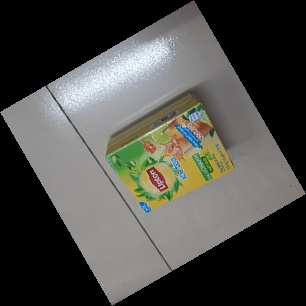LipTon: (103, 92, 235, 215)
